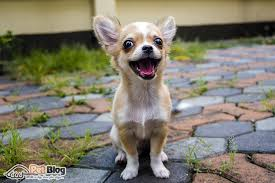chihuahua: (91, 15, 178, 179)
